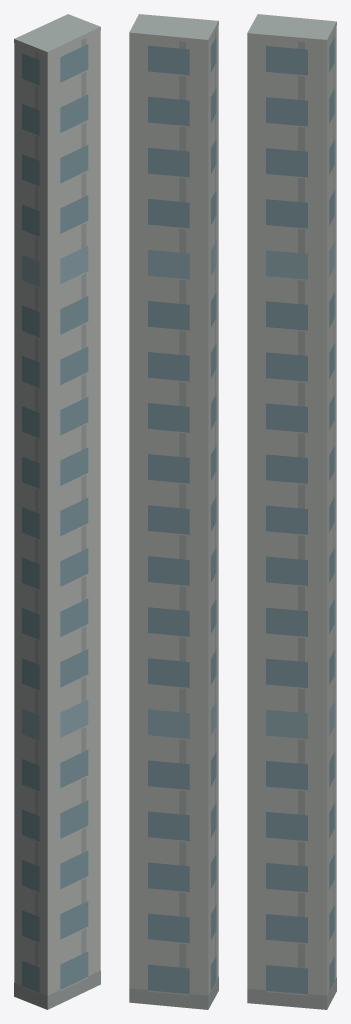
Rendered from survey-upis-32743211.glb.
3 views of the same model, side by side, from view 1: azimuth 30°, elevation 25°; view 2: azimuth 150°, elevation 25°; view 3: azimuth 330°, elevation 25° (orthographic).
Visible parts, largest first — view 1: survey-upis-32743211.tmp; view 2: survey-upis-32743211.tmp; view 3: survey-upis-32743211.tmp.
Boxes of the visible parts, x1=… form: survey-upis-32743211.tmp: x1=14, y1=14, x2=100, y2=1009; survey-upis-32743211.tmp: x1=129, y1=14, x2=218, y2=1009; survey-upis-32743211.tmp: x1=247, y1=14, x2=336, y2=1009.
Size of the model in its own units: 4.92 by 57.95 by 3.73.
